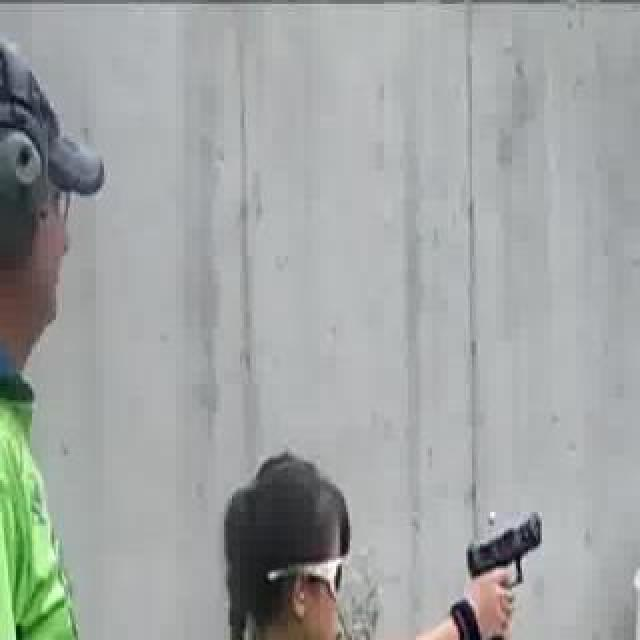Guns: (461, 509, 560, 602)
